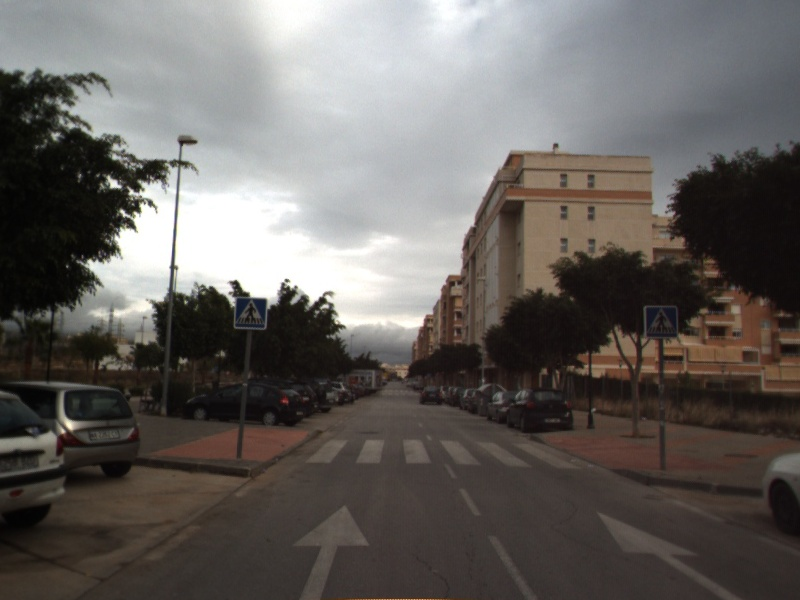STRAIGHT: (595, 510, 748, 600), (290, 503, 372, 600)
